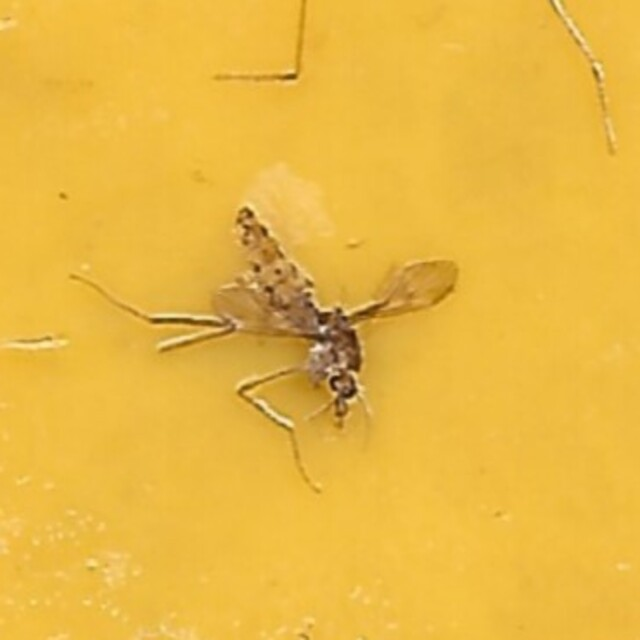Nematocera: (173, 199, 467, 441)
